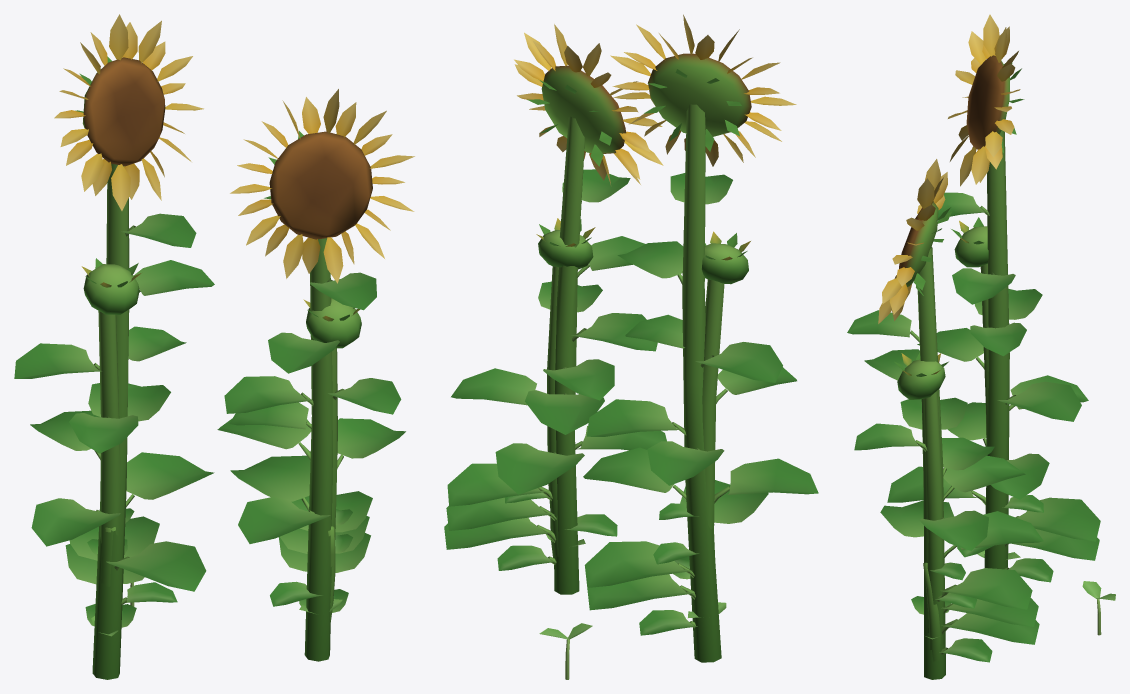
3 views of the same model, side by side, from view 1: azimuth 30°, elevation 25°; view 2: azimuth 150°, elevation 25°; view 3: azimuth 270°, elevation 25° (orthographic). The views are drawn at different scales.
Parts seen in each view (by area): view 1: stage3, stage2, stage1; view 2: stage3, stage2, stage1, stage0; view 3: stage3, stage2, stage1, stage0.
Part boxes in pixels (<box>): stage3: <box>14,14,414,679</box>; stage2: <box>30,258,405,604</box>; stage1: <box>85,508,352,627</box>; stage3: <box>446,14,796,662</box>; stage2: <box>444,218,818,610</box>; stage1: <box>497,492,699,635</box>; stage0: <box>539,534,726,679</box>; stage3: <box>847,14,1100,679</box>; stage2: <box>854,217,1099,654</box>; stage1: <box>911,495,1053,662</box>; stage0: <box>925,550,1115,639</box>.
Bounding box in the file's own units: 1.24 × 2.15 × 0.9.
